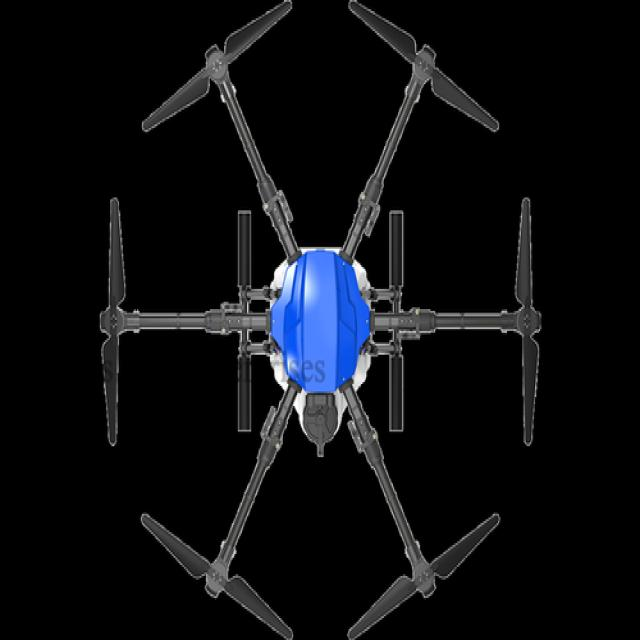drone: (80, 27, 627, 640)
